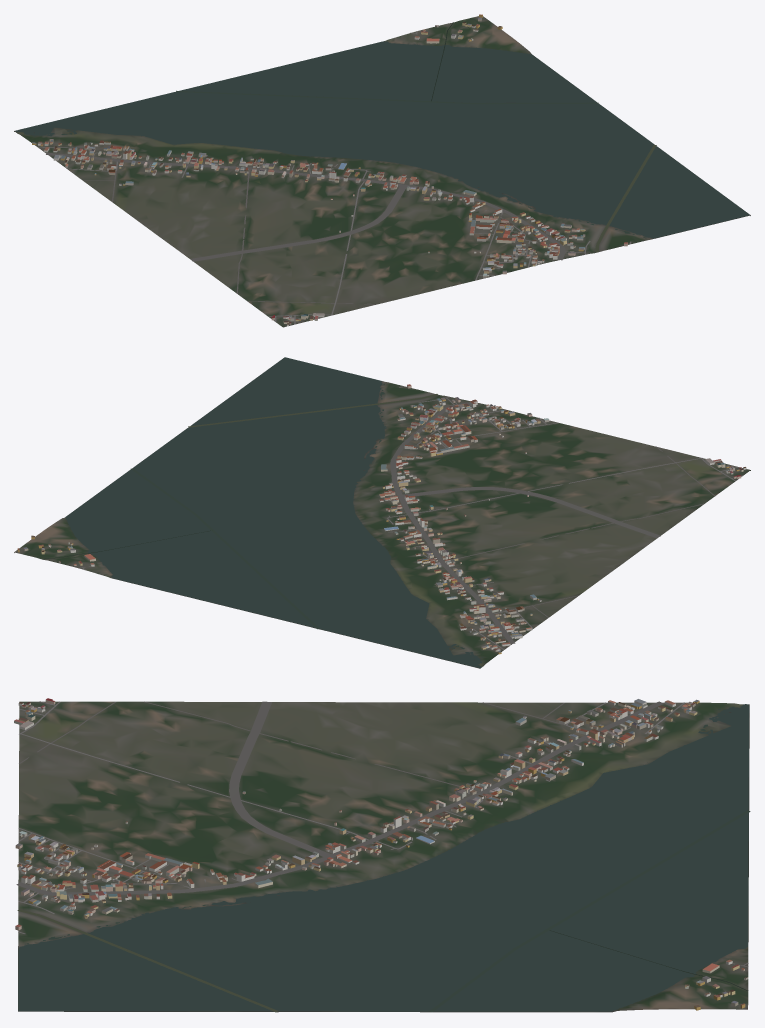
3 renders of one model, top to bottom at view 1: azimuth 30°, elevation 25°; view 2: azimuth 150°, elevation 25°; view 3: azimuth 270°, elevation 25°, orthographic. The views are drawn at different scales.
Parts seen in each view (by area): view 1: water, ground, buildings, roads; view 2: water, ground, buildings, roads; view 3: water, ground, buildings, roads.
Boxes of the visible parts, <box> form: water: <box>15,22,749,252</box>; ground: <box>14,16,750,327</box>; buildings: <box>32,14,627,326</box>; roads: <box>38,31,631,324</box>; water: <box>42,357,482,668</box>; ground: <box>14,358,750,668</box>; buildings: <box>17,384,746,654</box>; roads: <box>78,386,743,649</box>; water: <box>17,704,750,1012</box>; ground: <box>18,701,749,1012</box>; buildings: <box>14,698,748,1010</box>; roads: <box>16,701,748,967</box>.
Bounding box in the file's own units: 1411 × 25.88 × 1415.
